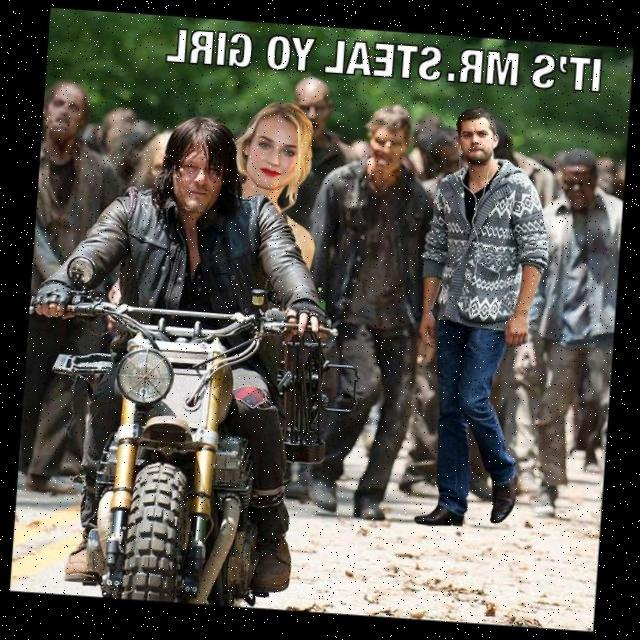No helmet: (154, 112, 245, 226)
